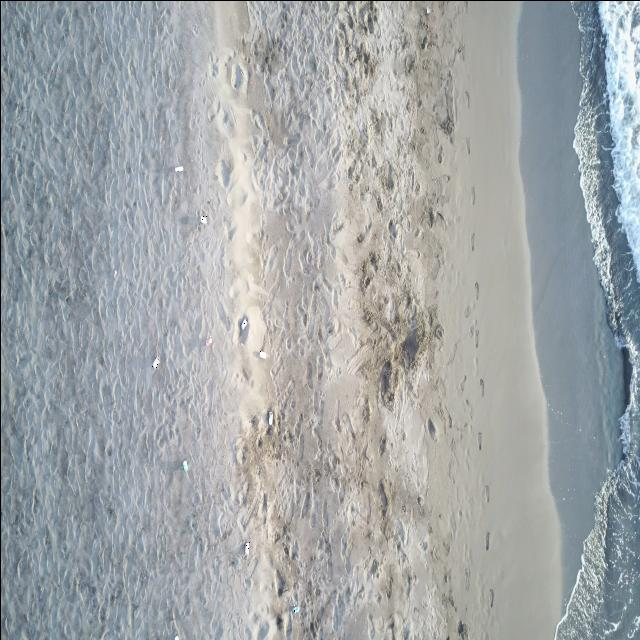Garbage: (203, 335, 212, 347), (258, 350, 267, 359), (243, 540, 249, 553), (151, 356, 158, 367), (181, 460, 187, 472), (240, 319, 247, 329), (292, 604, 299, 613), (200, 215, 207, 223), (267, 409, 270, 426), (175, 166, 183, 171)
